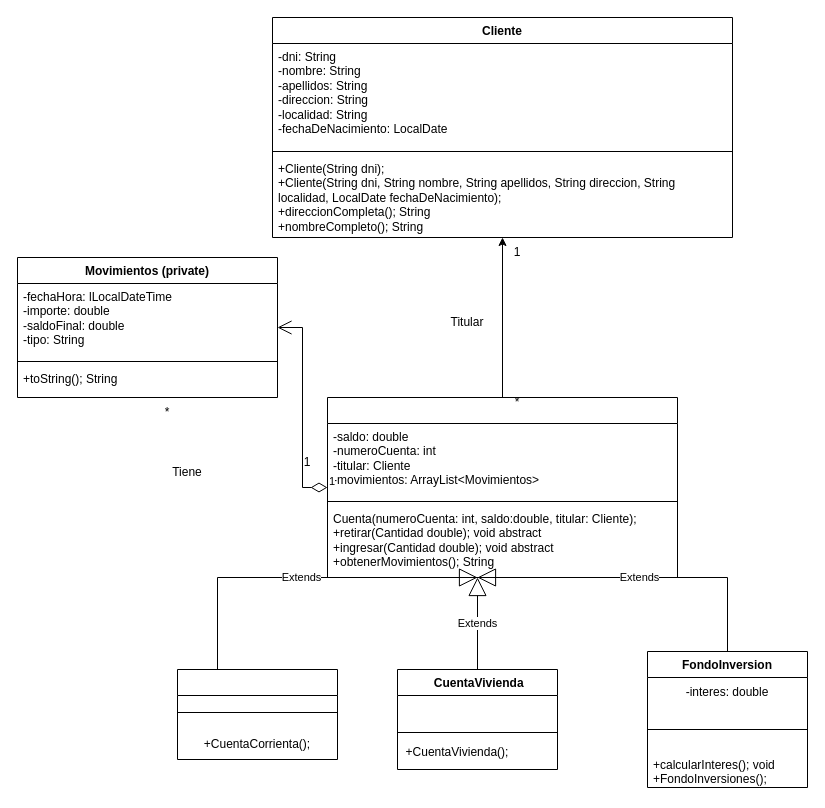
The diagram is 825 pixels wide and 808 high, and some of its shapes have lost their labels. The shapes that lost their labels are listed below. From the top down, each one's box as (x1, y1, x2, y2) in pixels, then its label:
(326, 396, 678, 578): Cuenta (abstracta)
(176, 668, 338, 760): CuentaCorriente
